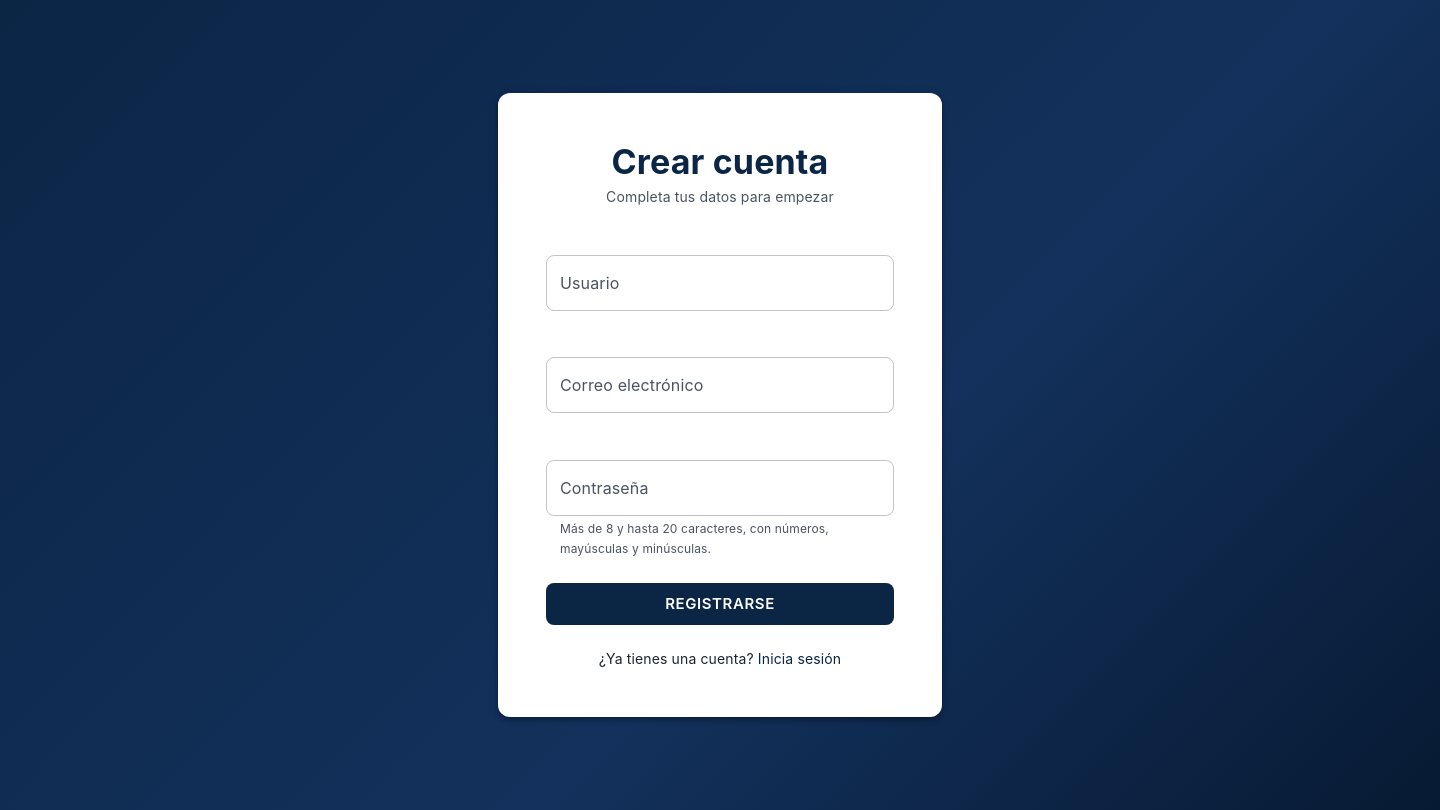
Test: RegisterPage › rejects a password that fails the policy
In the field with test id "register-username": (720, 282) [546,254,894,310], type "arivel"
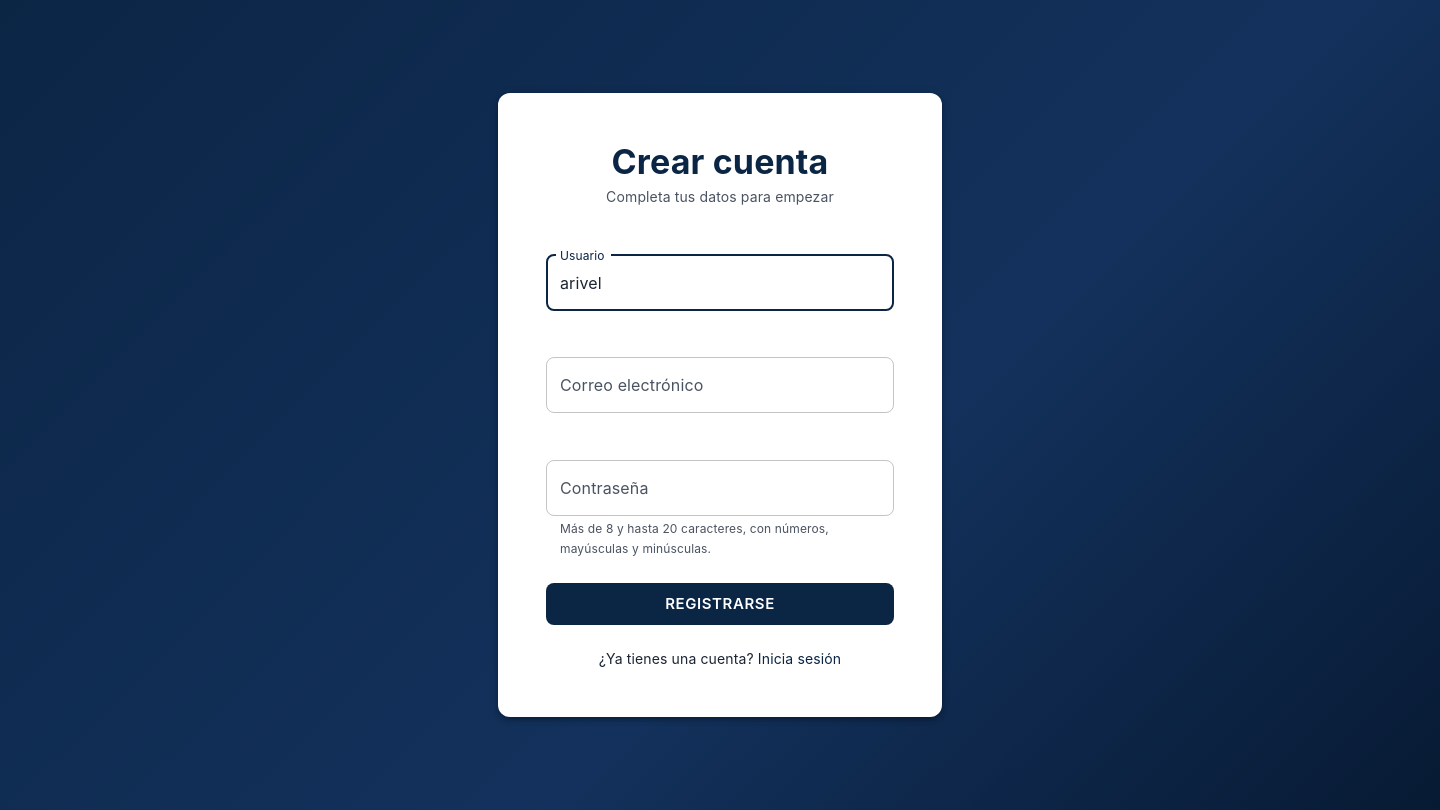
In the field with test id "register-email": (720, 386) [546,358,894,414], type "arivel@example.com"
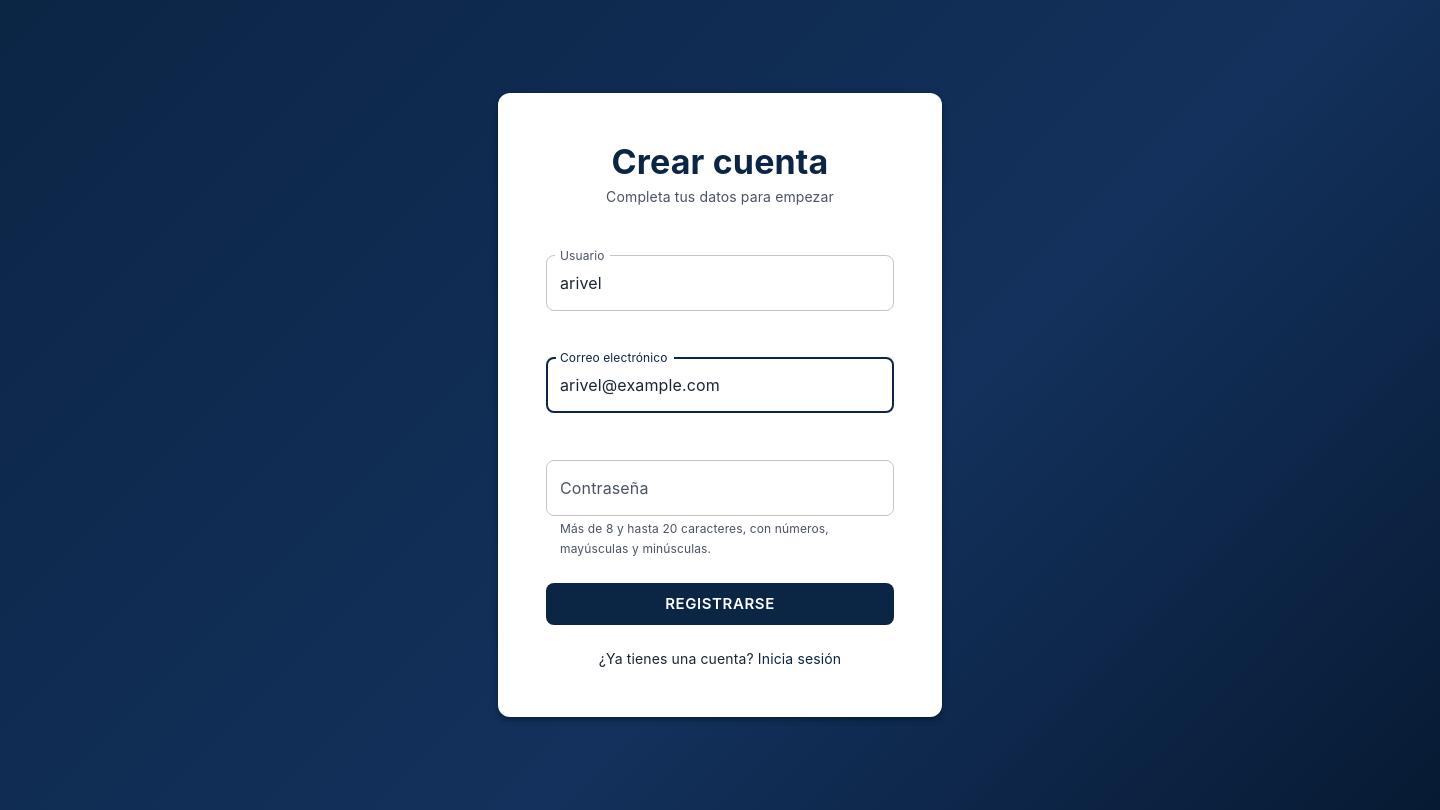
In the password field with test id "register-password": (720, 488) [546,460,894,516], type "short1"
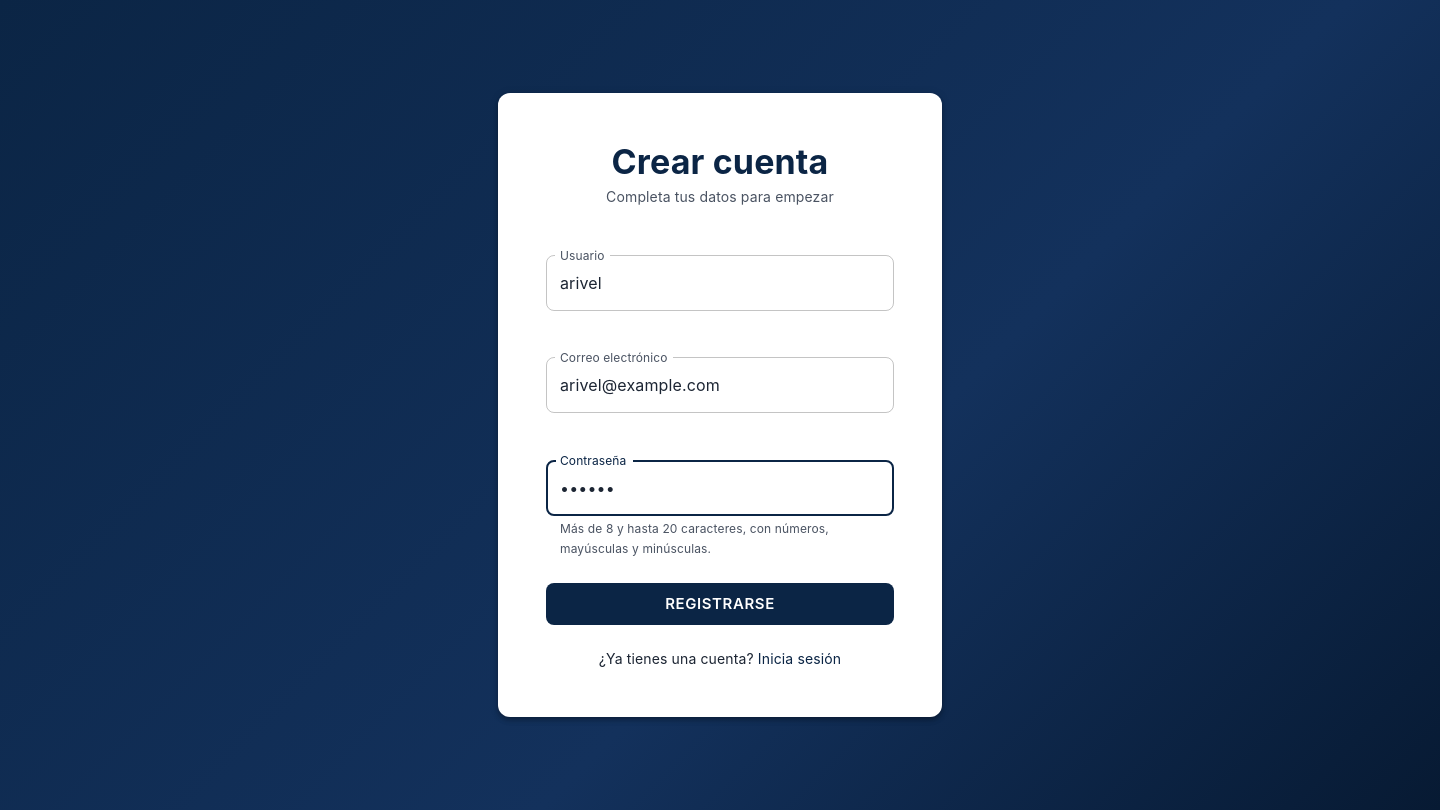
Click the button with test id "register-submit": (720, 604) [546,583,894,626]
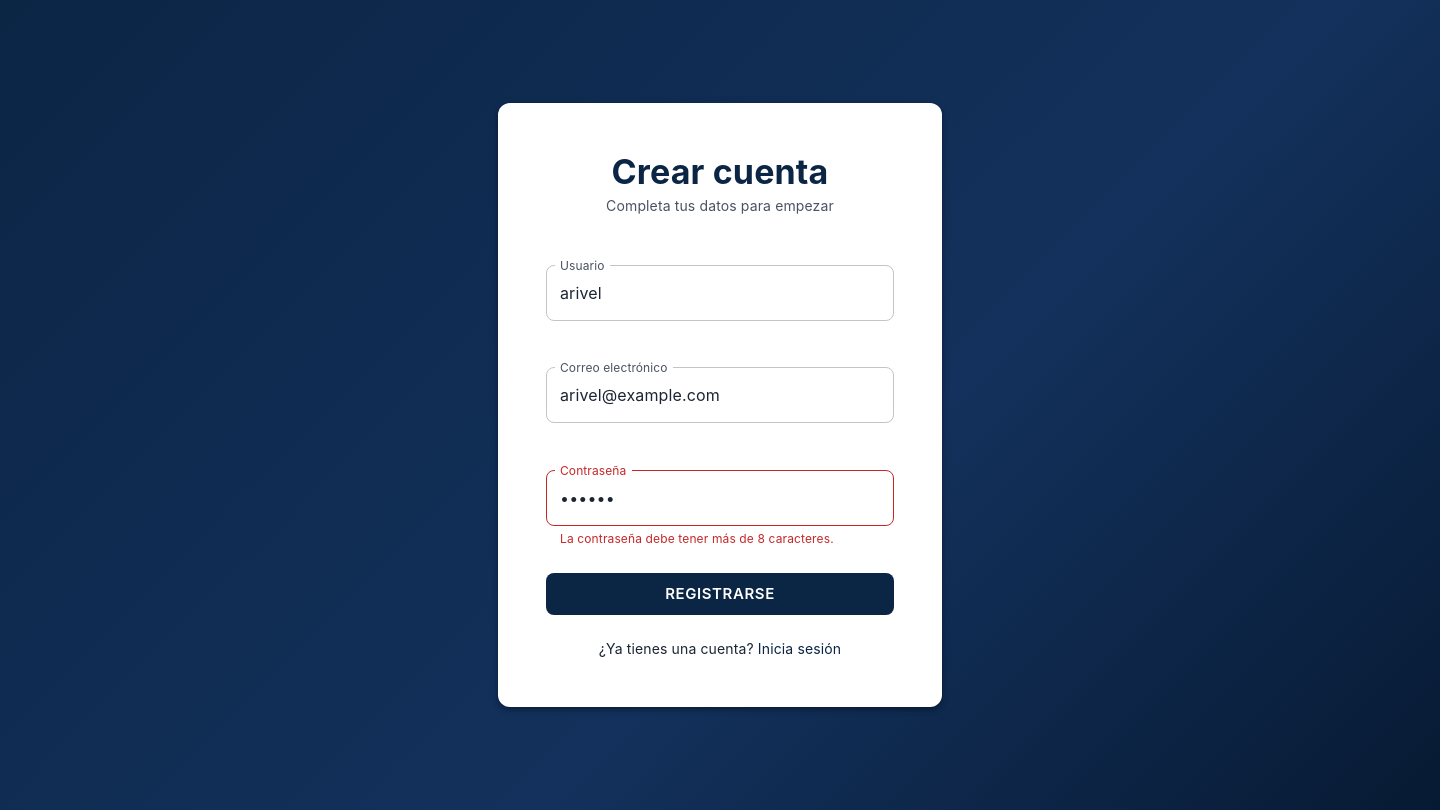
Expected: the text "La contraseña debe tener más de 8 caracteres." is shown, [560,529,880,549]
